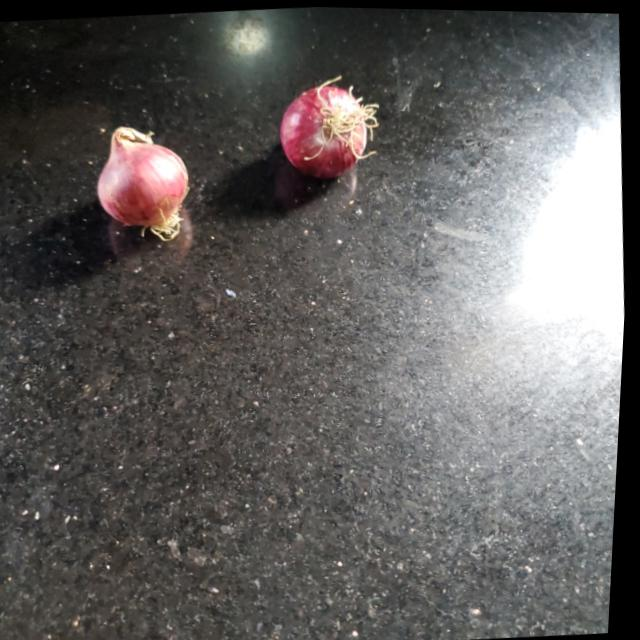onion: (92, 122, 196, 229), (279, 79, 372, 181)
